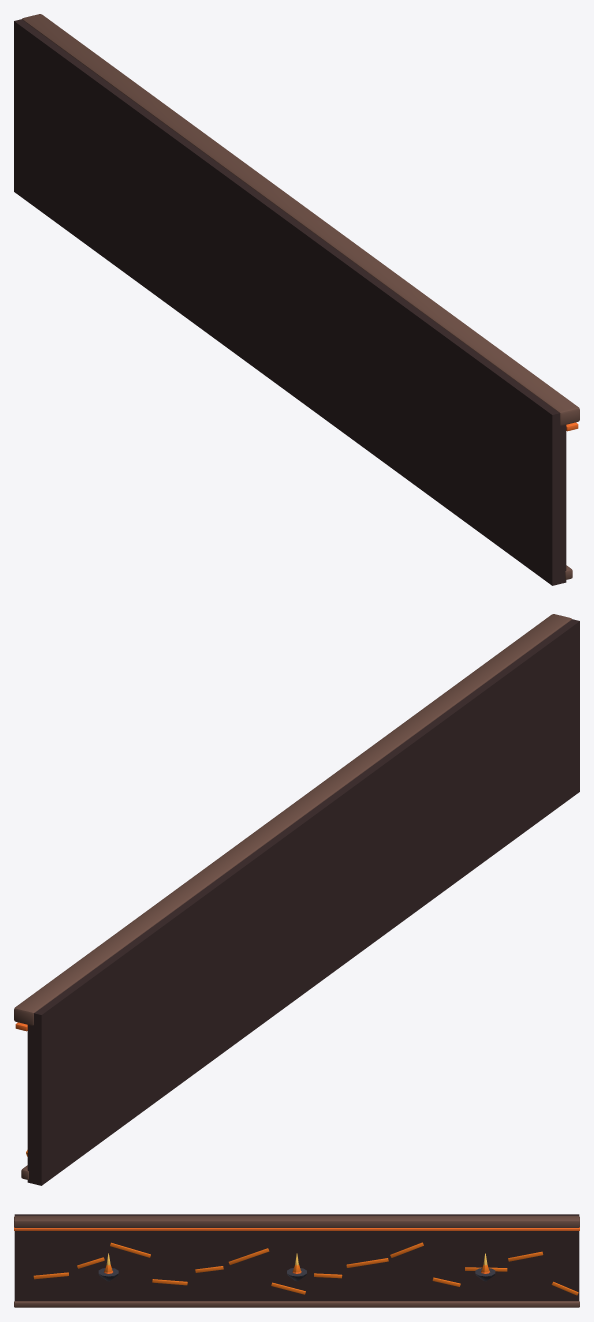
The model's file is WallFire.fbx.
3 views of the same model, one above another, from view 1: azimuth 30°, elevation 25°; view 2: azimuth 150°, elevation 25°; view 3: azimuth 270°, elevation 25° (orthographic). The views are drawn at different scales.
Parts seen in each view (by area): view 1: WallFire; view 2: WallFire; view 3: WallFire.
Boxes of the visible parts, left/top/right/bottom form: WallFire: left=14, top=14, right=579, bottom=585; WallFire: left=14, top=614, right=579, bottom=1185; WallFire: left=14, top=1214, right=579, bottom=1307.
Bounding box in the file's own units: 430 × 1410 × 8020.
